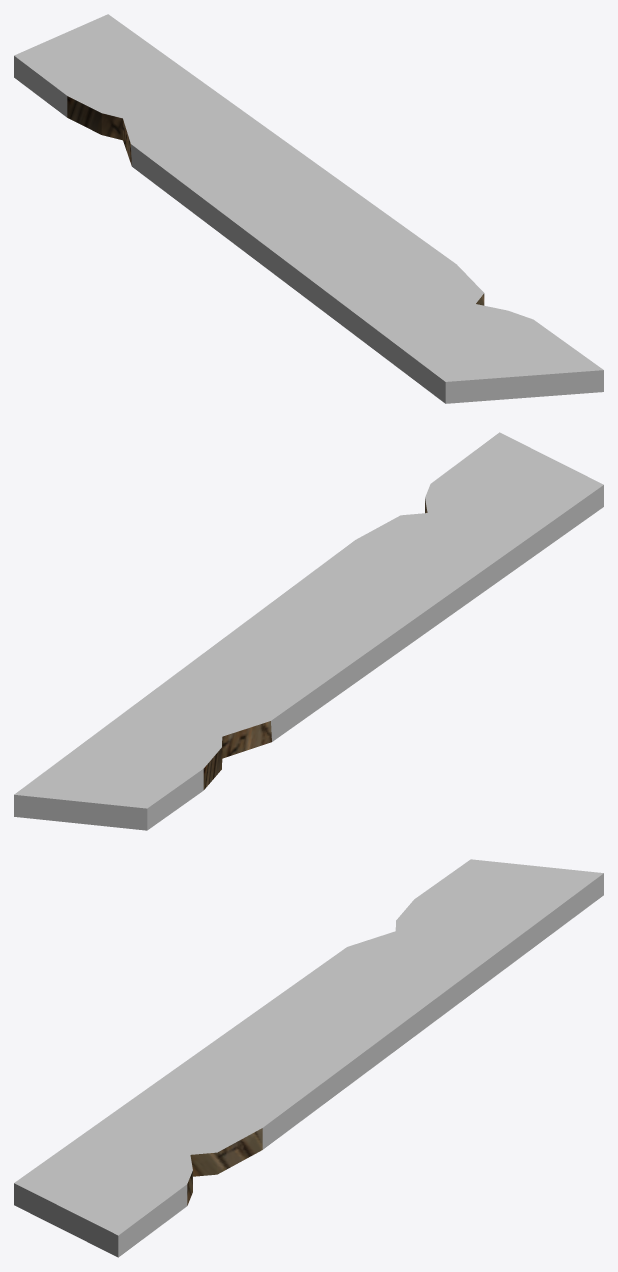
Rendered from lower_city_wood_plank_01.fbx.
3 views of the same model, one above another, from view 1: azimuth 30°, elevation 25°; view 2: azimuth 150°, elevation 25°; view 3: azimuth 330°, elevation 25° (orthographic).
Parts seen in each view (by area): view 1: lower_city_wood_plank_01; view 2: lower_city_wood_plank_01; view 3: lower_city_wood_plank_01.
Part boxes in pixels (x1,y1,x2,y2): lower_city_wood_plank_01: [14, 14, 603, 403]; lower_city_wood_plank_01: [14, 432, 603, 830]; lower_city_wood_plank_01: [14, 859, 603, 1257].
Size of the model in its own units: 0.4496 by 0.0718 by 2.91.
